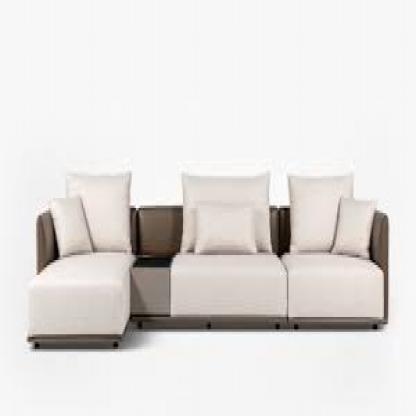sofa: (25, 166, 388, 356)
